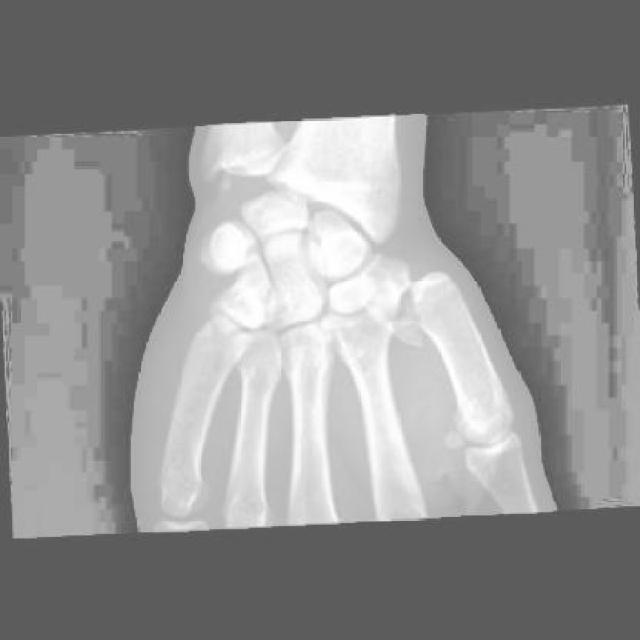Fracture: (374, 286, 440, 357)
